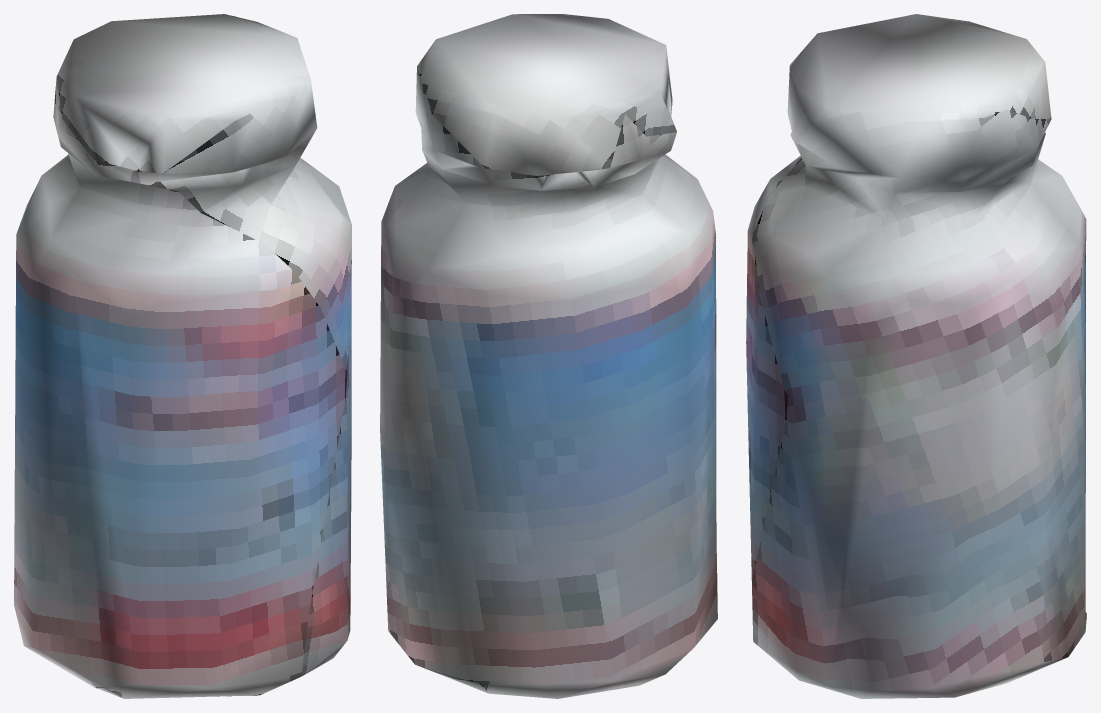
The model's file is PhosphOmega-low.glb.
3 views of the same model, side by side, from view 1: azimuth 30°, elevation 25°; view 2: azimuth 150°, elevation 25°; view 3: azimuth 270°, elevation 25° (orthographic).
Visible parts, largest first — view 1: PhosphOmega; view 2: PhosphOmega; view 3: PhosphOmega.
Boxes of the visible parts, box(x1,y1,x2,y2) form: PhosphOmega: box(14, 14, 351, 698); PhosphOmega: box(380, 14, 717, 698); PhosphOmega: box(746, 14, 1086, 698).
Bounding box in the file's own units: 0.06 × 0.1118 × 0.0599.
Materials: 1 (1 with a texture image).
